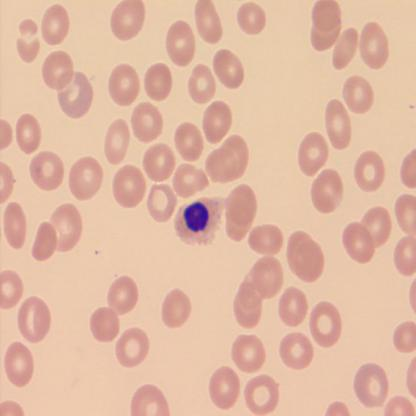NRC: (182, 199, 211, 233)
